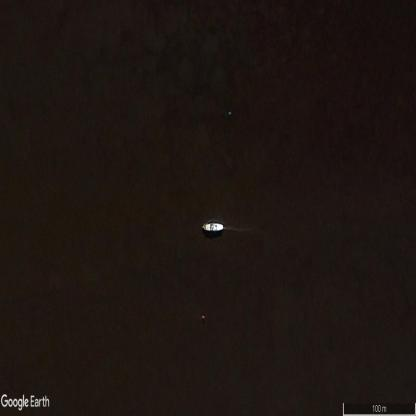ship: (206, 223, 223, 231)
